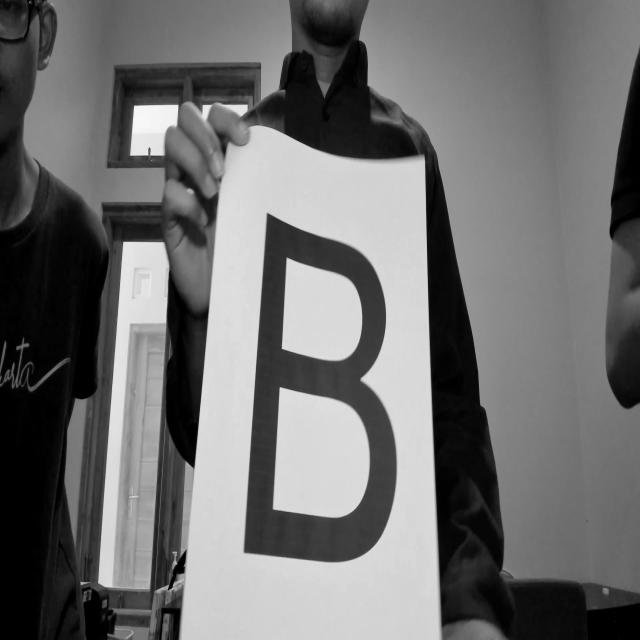b: (234, 210, 408, 581)
